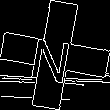N_N: (31, 27, 79, 83)
